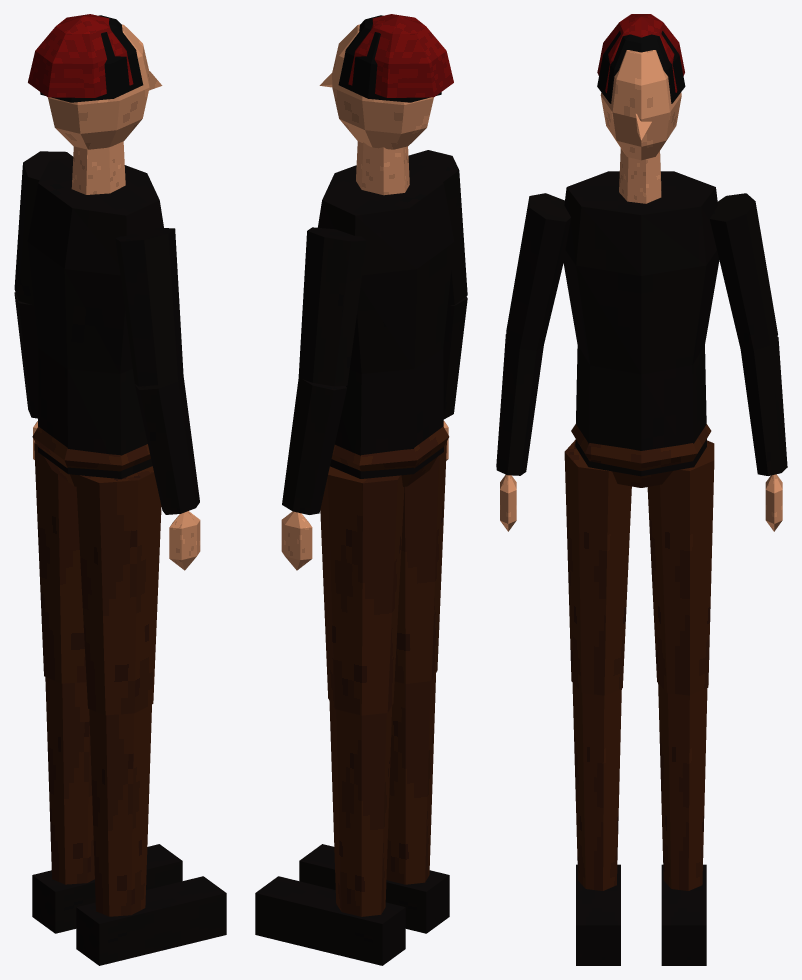
Rendered from bandido.glb.
3 views of the same model, side by side, from view 1: azimuth 30°, elevation 25°; view 2: azimuth 150°, elevation 25°; view 3: azimuth 270°, elevation 25° (orthographic). The views are drawn at different scales.
Parts seen in each view (by area): view 1: torso, muslo_der, pierna_der, muslo_izq, pierna_izq, brazo_der, pie_der, antebrazo_der, panuelo, cabeza, pie_izq, brazo_izq (+5 smaller); view 2: torso, muslo_izq, pierna_izq, muslo_der, pierna_der, brazo_izq, pie_izq, antebrazo_izq, panuelo, cabeza, pie_der, brazo_der (+5 smaller); view 3: torso, muslo_der, muslo_izq, pierna_der, pierna_izq, brazo_izq, brazo_der, cabeza, antebrazo_izq, antebrazo_der, pie_izq, pie_der (+6 smaller).
Part boxes in pixels (bbox=[...]): torso: bbox=[27, 157, 163, 478]; muslo_der: bbox=[76, 466, 161, 715]; pierna_der: bbox=[89, 704, 151, 916]; muslo_izq: bbox=[34, 442, 86, 683]; pierna_izq: bbox=[45, 677, 94, 884]; brazo_der: bbox=[115, 227, 183, 386]; pie_der: bbox=[76, 876, 226, 965]; antebrazo_der: bbox=[135, 375, 199, 514]; panuelo: bbox=[28, 14, 133, 97]; cabeza: bbox=[48, 24, 162, 149]; pie_izq: bbox=[32, 844, 182, 933]; brazo_izq: bbox=[14, 151, 72, 305]; torso: bbox=[318, 157, 454, 478]; muslo_izq: bbox=[320, 466, 404, 715]; pierna_izq: bbox=[329, 700, 392, 916]; muslo_der: bbox=[394, 441, 446, 683]; pierna_der: bbox=[386, 674, 435, 884]; brazo_izq: bbox=[298, 227, 366, 386]; pie_izq: bbox=[255, 876, 405, 965]; antebrazo_izq: bbox=[282, 377, 346, 514]; panuelo: bbox=[348, 14, 453, 97]; cabeza: bbox=[319, 24, 433, 149]; pie_der: bbox=[299, 844, 449, 933]; brazo_der: bbox=[408, 150, 467, 305]; torso: bbox=[563, 171, 719, 476]; muslo_der: bbox=[564, 440, 631, 695]; muslo_izq: bbox=[647, 440, 714, 695]; pierna_der: bbox=[572, 683, 621, 890]; pierna_izq: bbox=[658, 683, 707, 890]; brazo_izq: bbox=[710, 193, 777, 351]; brazo_der: bbox=[506, 193, 570, 350]; cabeza: bbox=[600, 50, 681, 160]; antebrazo_izq: bbox=[740, 336, 787, 475]; antebrazo_der: bbox=[496, 334, 543, 475]; pie_izq: bbox=[661, 864, 706, 965]; pie_der: bbox=[576, 864, 620, 965].
Bounding box in the file's own units: 0.3 × 1.7 × 0.5.
1 material, 1 textured.
